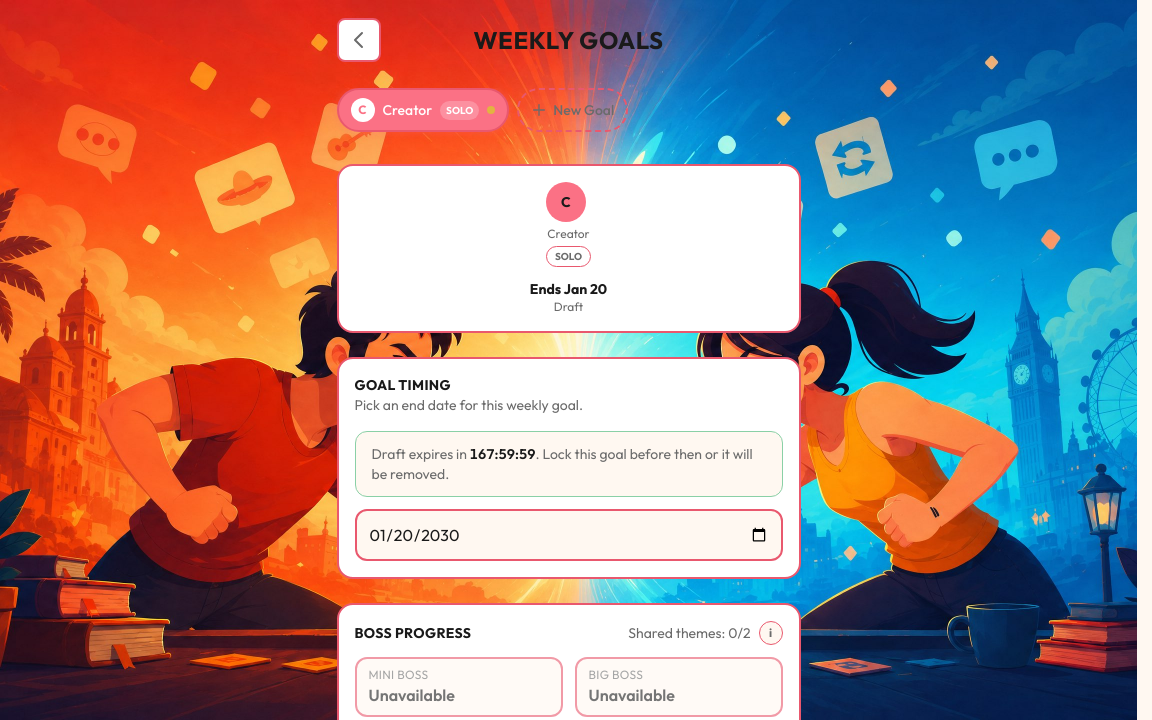
Test: weekly goal page component contracts › requires partner selection for shared creation and supports cancellation
Click the button with test id "goals-goal-new" at (573,110), box [517, 88, 628, 132]
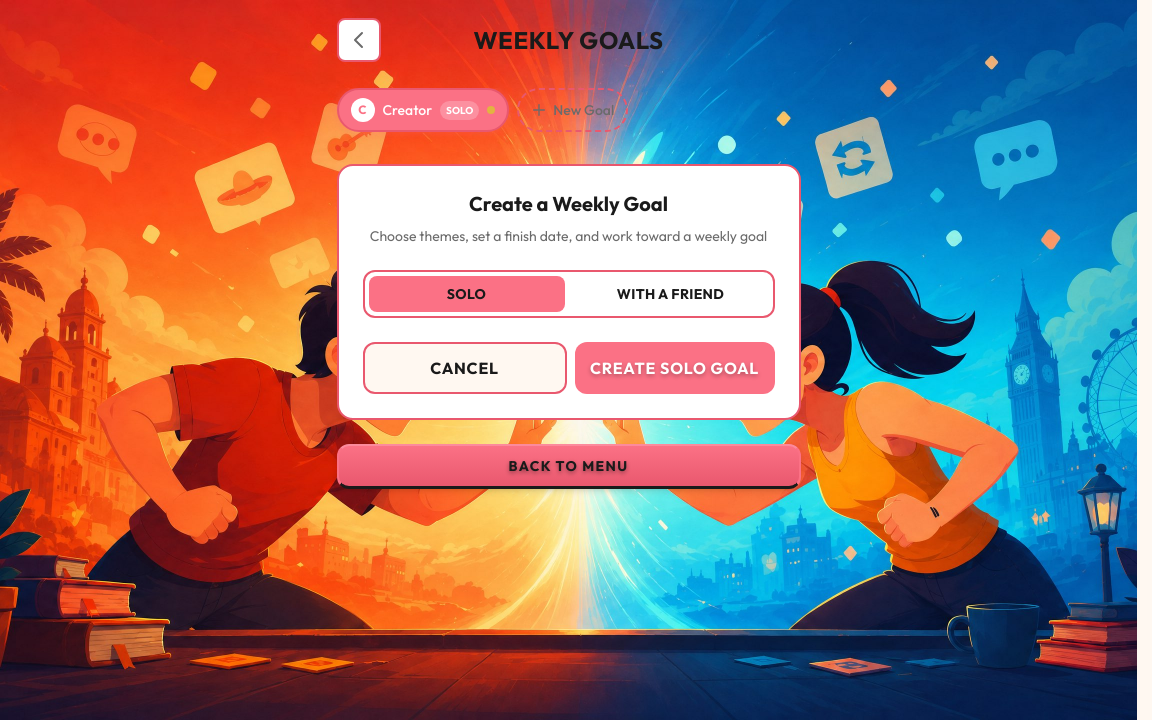
Click the button with test id "goals-create-mode-shared" at (670,294), box [572, 276, 768, 312]
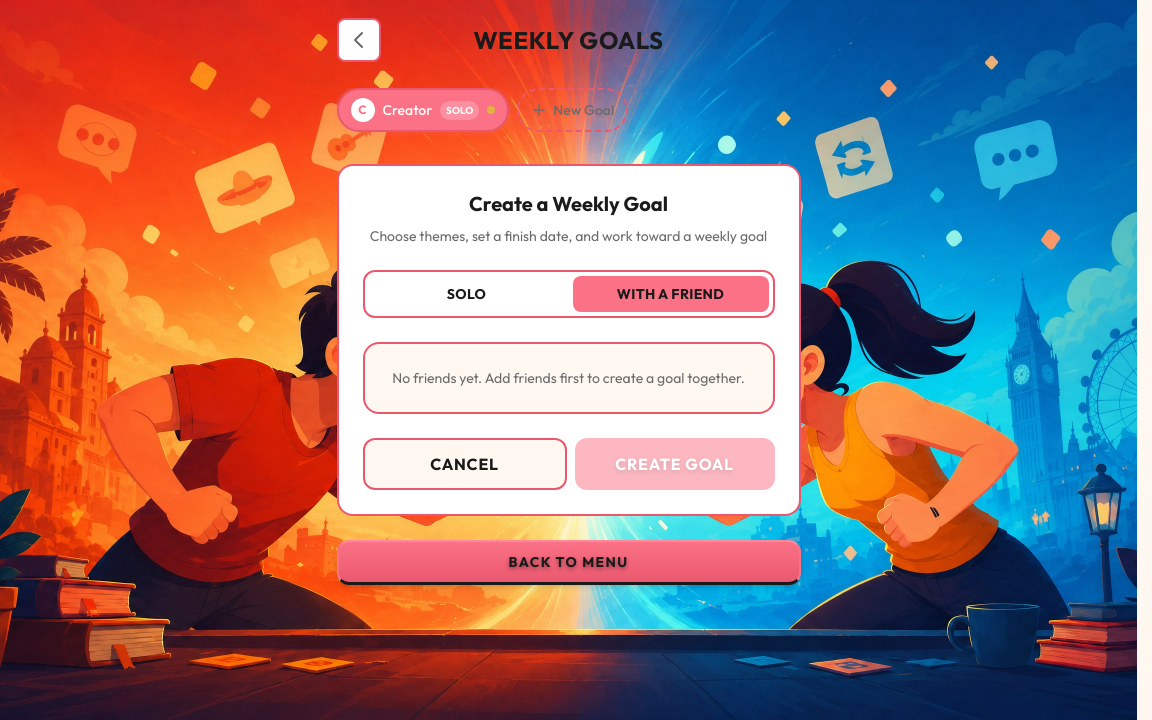
Check: the text "No friends yet. Add friends first to create a goal together." is shown, box [388, 368, 748, 388]
Check: the button with test id "goals-create-submit" is disabled, box [574, 438, 774, 490]
Click the button with test id "goals-create-cancel" at (464,464), box [362, 438, 566, 490]
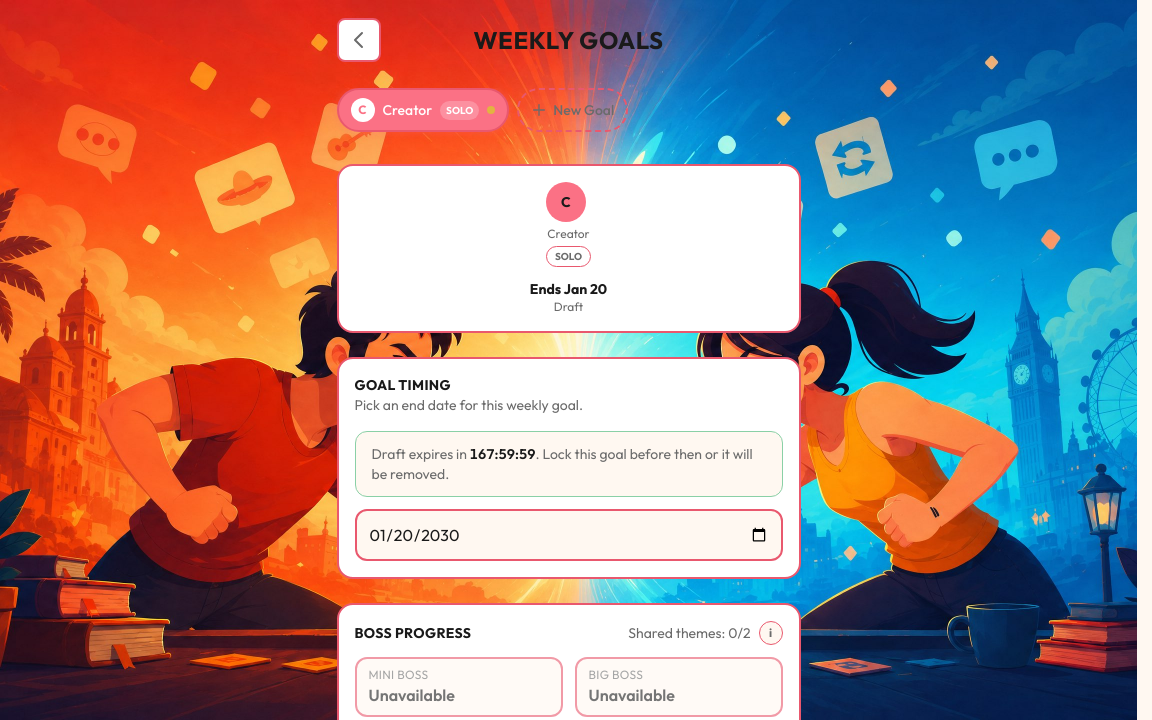
Check: the button with test id "goals-create-submit" is gone
Check: the text "Boss Progress" is shown, box [354, 623, 471, 643]
